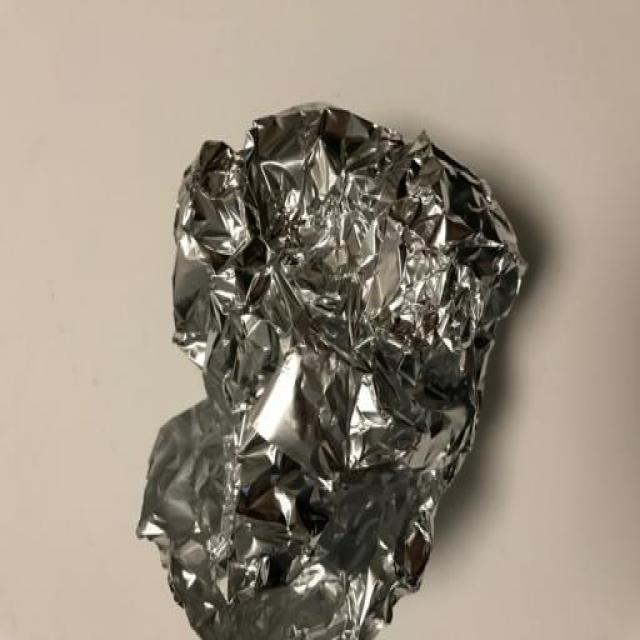plastic_bag: (115, 79, 567, 640)
